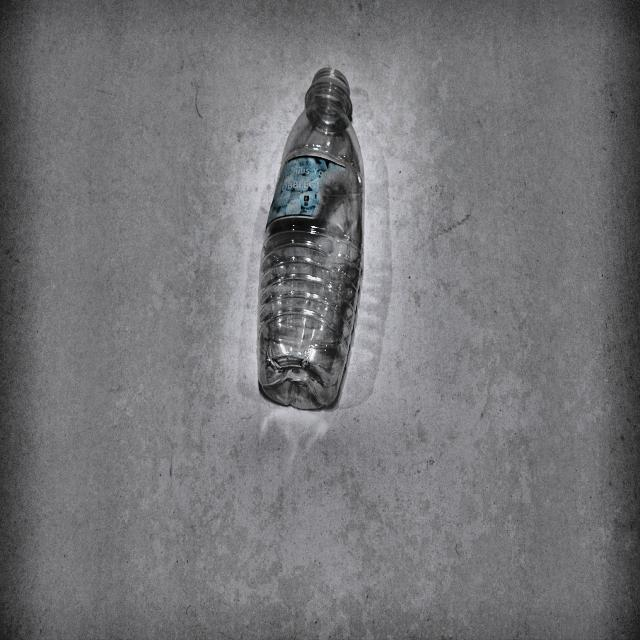plastic bottle: (257, 67, 364, 409)
